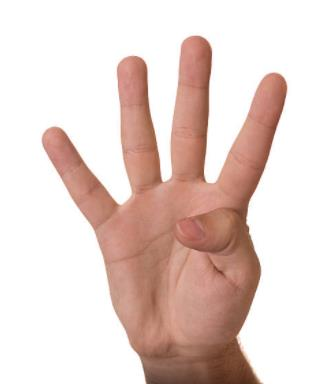right: (30, 31, 291, 363)
